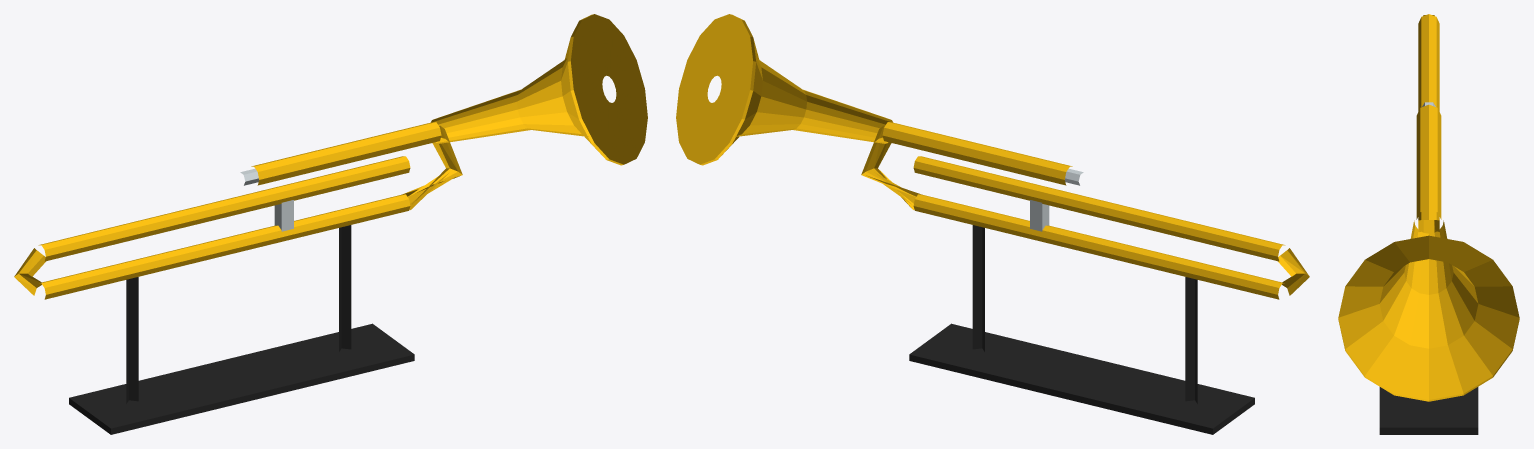
File: trombon.glb
3 renders of one model, left to right at view 1: azimuth 30°, elevation 25°; view 2: azimuth 150°, elevation 25°; view 3: azimuth 270°, elevation 25°, orthographic. The views are drawn at different scales.
Visible parts, largest first — view 1: trombon; view 2: trombon; view 3: trombon.
Boxes of the visible parts, left/top/right/bottom form: trombon: left=14, top=14, right=647, bottom=434; trombon: left=676, top=14, right=1309, bottom=434; trombon: left=1338, top=14, right=1519, bottom=434.
Size of the model in its own units: 0.9763 by 0.43 by 0.22.
